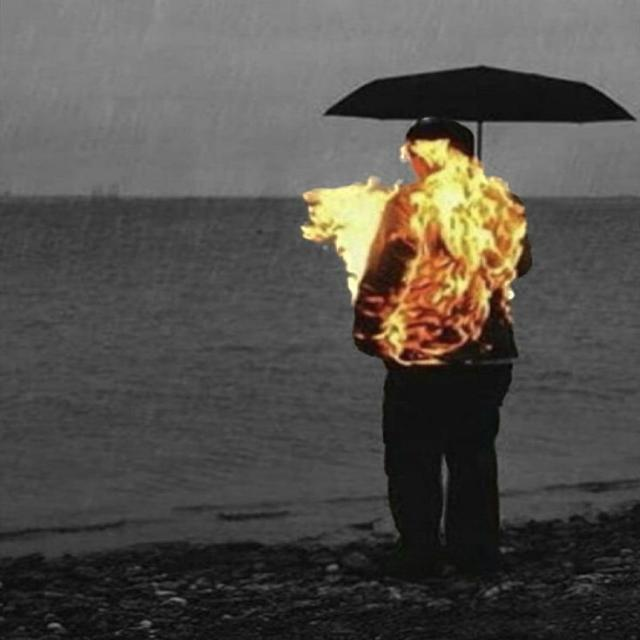Fire: (318, 104, 552, 371)
